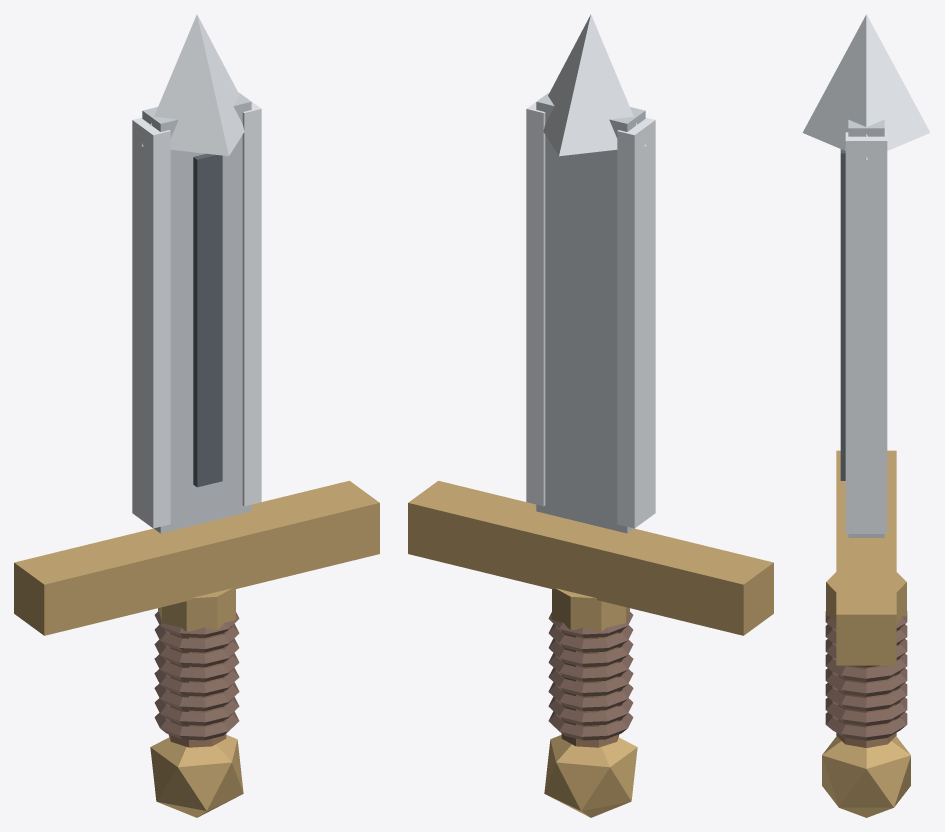
The model's file is two_handed_sword.glb.
3 renders of one model, left to right at view 1: azimuth 30°, elevation 25°; view 2: azimuth 150°, elevation 25°; view 3: azimuth 270°, elevation 25°, orthographic.
Visible parts, largest first — view 1: Crossguard.001, Blade.001, EdgeLeft.001, Fuller.003, EdgeRight.001, BladePoint.001, Pommel.001, GripFerrule.001, GripCore.001, GripWrap_4.011, GripWrap_2.011, GripWrap_1.011 (+5 smaller); view 2: Crossguard.001, Blade.001, EdgeLeft.001, EdgeRight.001, BladePoint.001, Pommel.001, GripFerrule.001, GripCore.001, GripWrap_4.011, GripWrap_2.011, GripWrap_1.011, GripWrap_3.011 (+4 smaller); view 3: EdgeRight.001, Crossguard.001, BladePoint.001, Pommel.001, Fuller.003, GripWrap_1.011, GripWrap_3.011, GripWrap_0.011, GripWrap_2.011, GripWrap_4.011, GripCore.001, GripFerrule.001 (+3 smaller).
Part boxes in pixels (<box>): Crossguard.001: <box>14,480,379,635</box>; Blade.001: <box>142,92,251,533</box>; EdgeLeft.001: <box>132,117,170,528</box>; Fuller.003: <box>193,153,222,487</box>; EdgeRight.001: <box>241,94,261,506</box>; BladePoint.001: <box>142,14,244,156</box>; Pommel.001: <box>150,735,243,817</box>; GripFerrule.001: <box>158,588,235,631</box>; GripCore.001: <box>168,631,226,747</box>; GripWrap_4.011: <box>154,653,239,681</box>; GripWrap_2.011: <box>154,682,239,711</box>; GripWrap_1.011: <box>154,697,239,725</box>; Crossguard.001: <box>408,480,773,635</box>; Blade.001: <box>536,92,645,533</box>; EdgeLeft.001: <box>617,117,655,528</box>; EdgeRight.001: <box>526,94,546,506</box>; BladePoint.001: <box>543,14,645,156</box>; Pommel.001: <box>544,735,637,817</box>; GripFerrule.001: <box>552,588,629,631</box>; GripCore.001: <box>561,631,619,747</box>; GripWrap_4.011: <box>548,653,633,681</box>; GripWrap_2.011: <box>548,682,633,711</box>; GripWrap_1.011: <box>548,697,633,725</box>; GripWrap_3.011: <box>548,667,633,696</box>; EdgeRight.001: <box>845,132,887,533</box>; Crossguard.001: <box>836,450,896,665</box>; BladePoint.001: <box>802,14,930,159</box>; Pommel.001: <box>822,736,910,817</box>; Fuller.003: <box>840,149,845,480</box>; GripWrap_1.011: <box>825,697,907,725</box>; GripWrap_3.011: <box>825,668,907,696</box>; GripWrap_0.011: <box>825,712,907,740</box>; GripWrap_2.011: <box>825,683,907,711</box>; GripWrap_4.011: <box>825,653,907,682</box>; GripCore.001: <box>836,665,896,747</box>; GripFerrule.001: <box>826,572,906,624</box>.
Bounding box in the file's own units: 0.96 × 2.2 × 0.3172.
